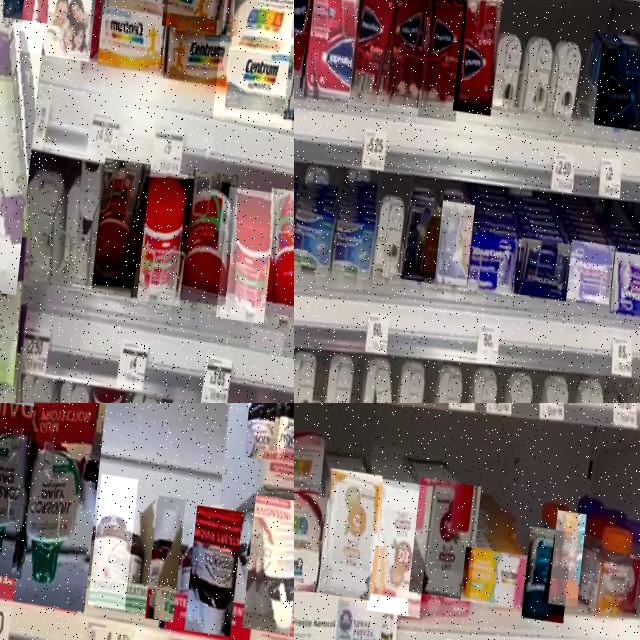Other: (12, 403, 105, 608), (0, 15, 44, 296), (366, 474, 433, 615), (408, 473, 481, 597), (129, 166, 194, 305), (175, 165, 239, 304), (317, 465, 382, 599), (215, 183, 277, 322), (91, 156, 151, 297), (184, 499, 243, 631), (241, 488, 294, 628), (87, 469, 138, 606), (0, 403, 38, 576), (586, 518, 640, 626), (145, 490, 186, 617), (163, 10, 232, 85), (521, 521, 572, 619), (258, 184, 294, 316), (460, 542, 530, 605), (593, 34, 640, 125), (548, 504, 587, 603), (294, 485, 330, 591), (467, 228, 523, 293), (516, 233, 572, 297), (435, 196, 475, 283), (401, 202, 443, 280), (566, 235, 615, 300), (327, 220, 379, 278), (294, 212, 335, 280), (243, 403, 293, 457), (608, 246, 640, 314), (627, 518, 640, 634), (276, 403, 294, 456)
